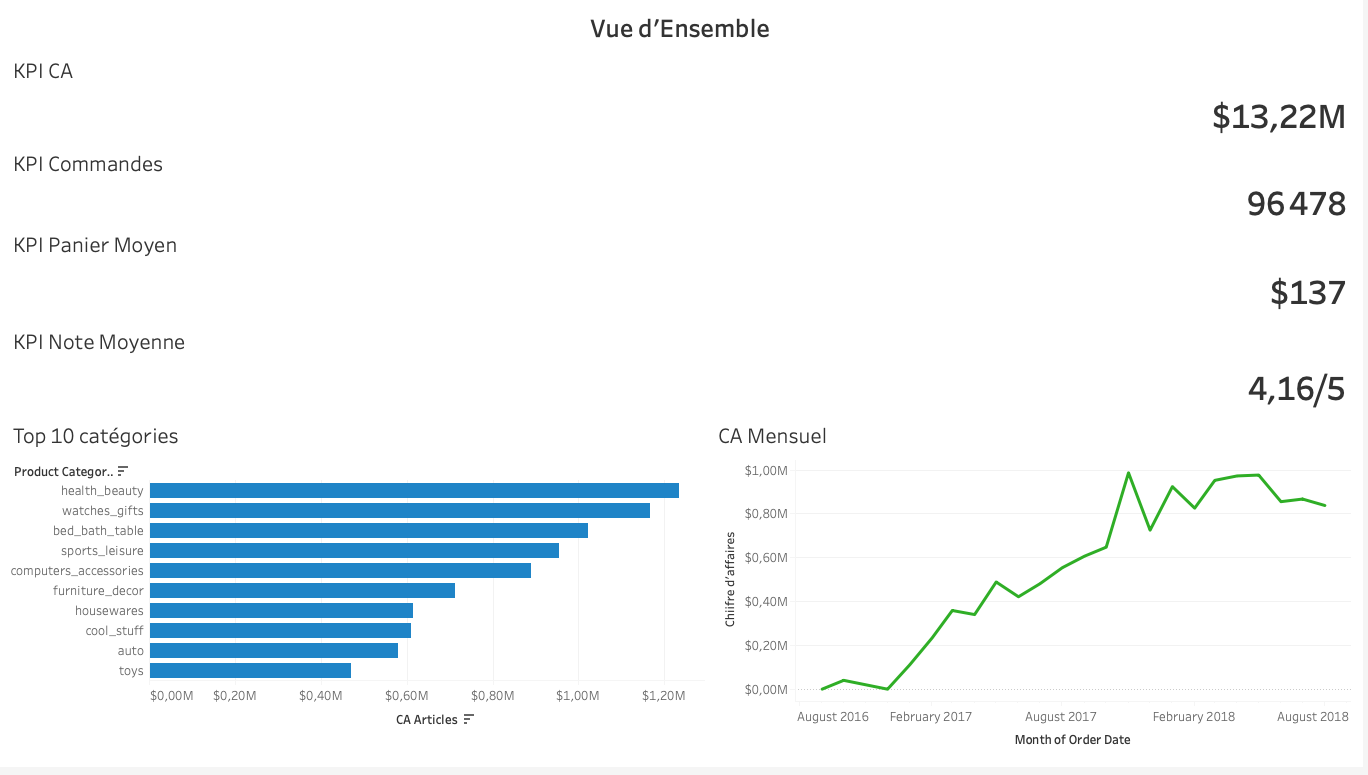

The page's visual inventory and layout, read from the dashboard file:
{"tool":"tableau","page":{"name":"Vue d'Ensemble","canvas":[1366,768],"ordinal":2},"visuals":[{"type":"title","box":[8,8,1350,41]},{"type":"worksheet","title":"KPI CA","mark":"Automatic","box":[8,49,1350,93]},{"type":"worksheet","title":"KPI Commandes","mark":"Automatic","box":[8,142,1350,81]},{"type":"worksheet","title":"KPI Panier Moyen","mark":"Automatic","box":[8,223,1350,97]},{"type":"worksheet","title":"KPI Note Moyenne","mark":"Automatic","box":[8,320,1350,94]},{"type":"worksheet","title":"Top 10 catégories","mark":"Automatic","rows":["product_category_name_english"],"cols":["Calculation_2879473304907783"],"box":[8,414,704.5,346]},{"type":"worksheet","title":"CA Mensuel","mark":"Automatic","rows":["Calculation_2879473302892544"],"cols":["order_date"],"box":[712.5,414,645.5,346]}]}

Visuals, with their boxes in screenshot pixels (x1, y1, x2, y2), scaled from the page's 1366x768 canvas onto the 1368x775 screenshot:
title: select_region(8, 8, 1360, 49)
"KPI CA" worksheet: select_region(8, 49, 1360, 143)
"KPI Commandes" worksheet: select_region(8, 143, 1360, 225)
"KPI Panier Moyen" worksheet: select_region(8, 225, 1360, 323)
"KPI Note Moyenne" worksheet: select_region(8, 323, 1360, 418)
"Top 10 catégories" worksheet: select_region(8, 418, 714, 767)
"CA Mensuel" worksheet: select_region(714, 418, 1360, 767)
